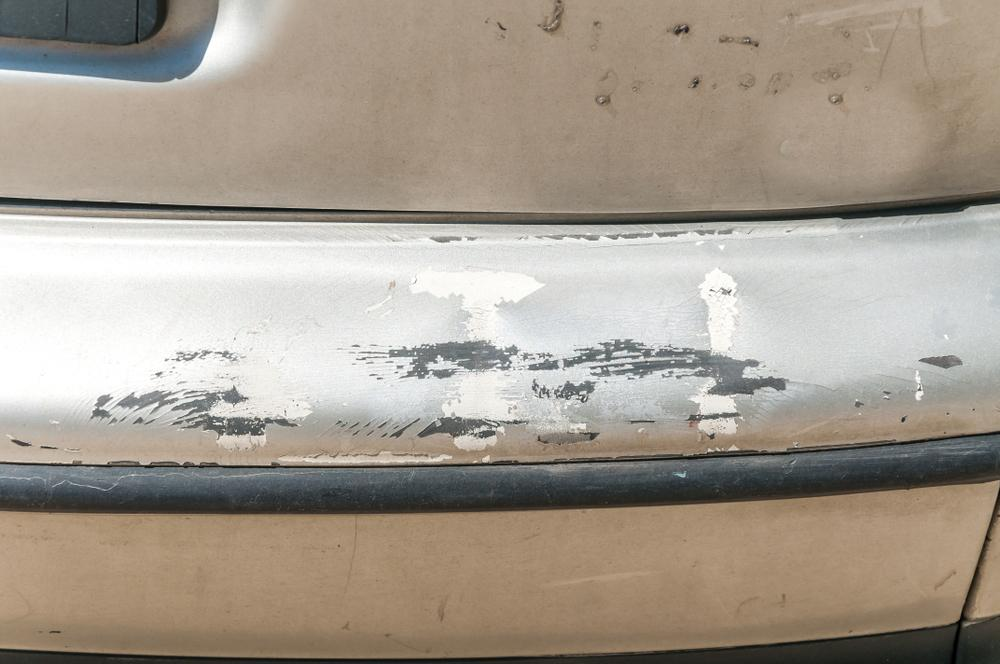scratch: (71, 256, 983, 463)
